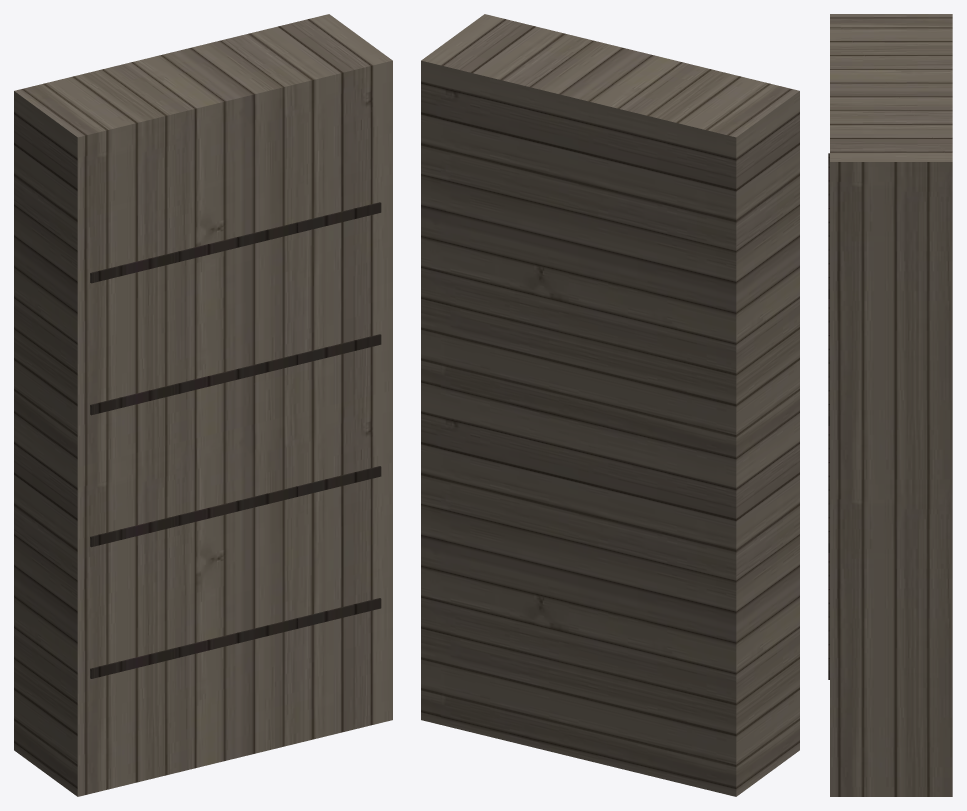
Rendered from bookshelf_01.glb.
3 views of the same model, side by side, from view 1: azimuth 30°, elevation 25°; view 2: azimuth 150°, elevation 25°; view 3: azimuth 270°, elevation 25° (orthographic). The views are drawn at different scales.
Parts seen in each view (by area): view 1: bookshelf_01; view 2: bookshelf_01; view 3: bookshelf_01.
Boxes of the visible parts, x1,y1,x2,y2 form: bookshelf_01: [14, 14, 392, 796]; bookshelf_01: [421, 14, 799, 796]; bookshelf_01: [828, 14, 952, 796].
Size of the model in its own units: 1 by 2 by 0.355.
Materials: 7 (7 with a texture image).
